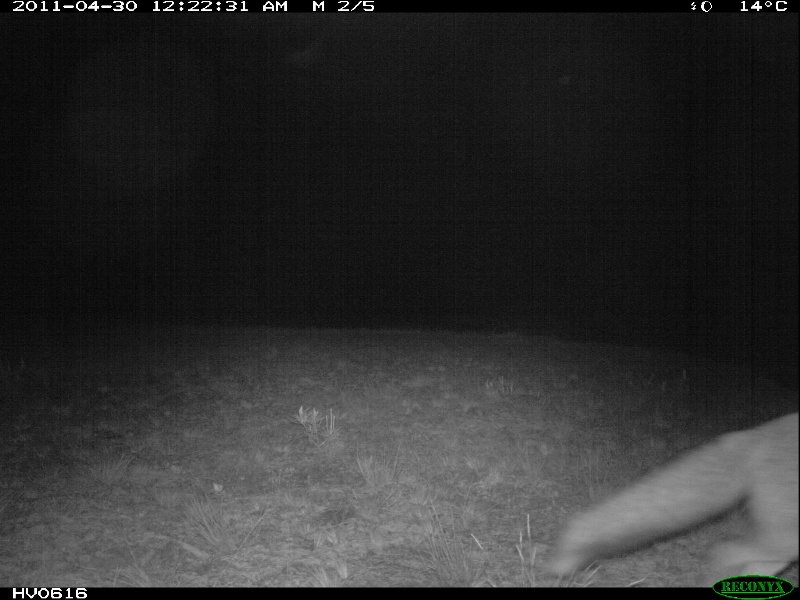fox: (539, 399, 800, 581)
